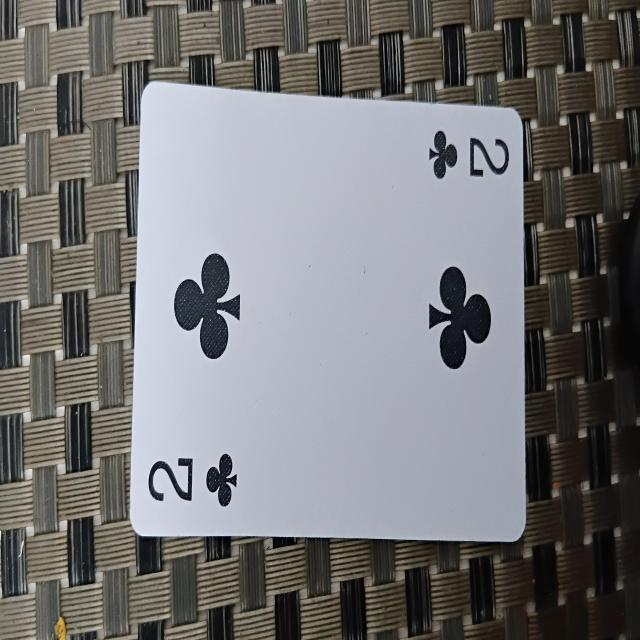2C: (128, 96, 528, 540)
